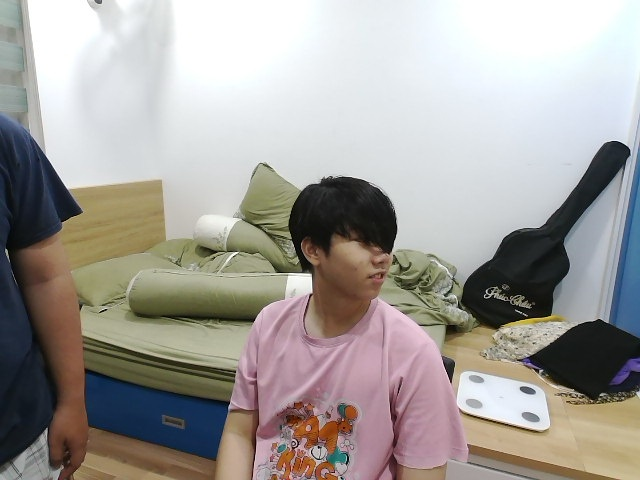face: (288, 177, 399, 303)
